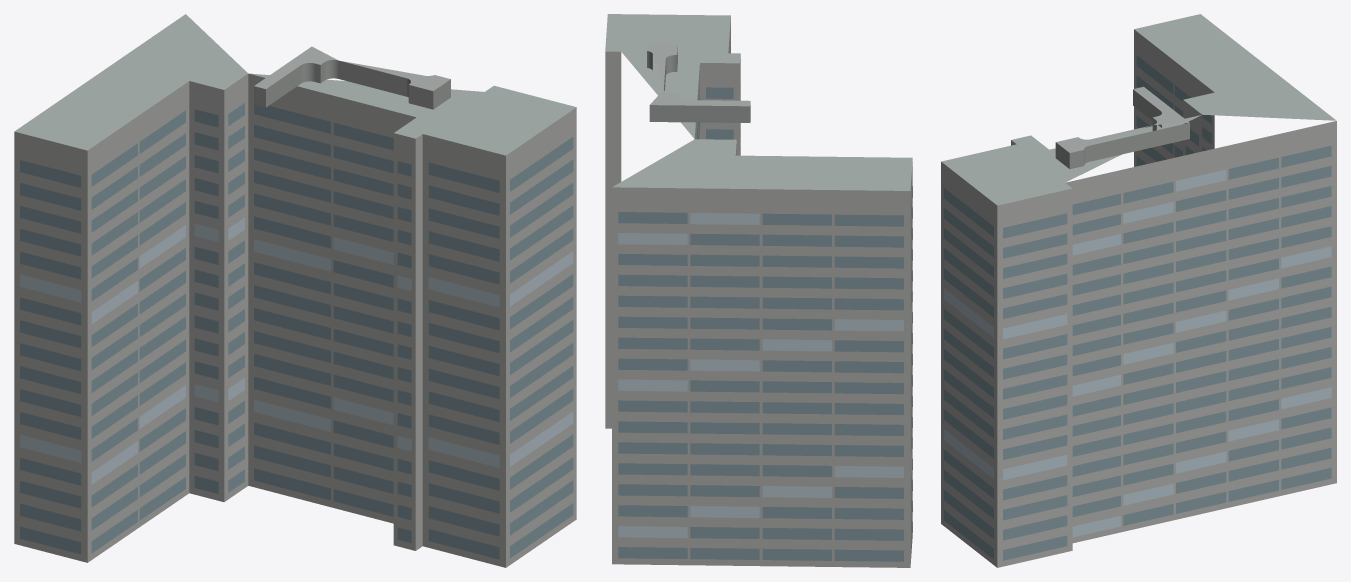
Rendered from fallback-onebailey-122.glb.
3 renders of one model, left to right at view 1: azimuth 30°, elevation 25°; view 2: azimuth 150°, elevation 25°; view 3: azimuth 270°, elevation 25°, orthographic. The views are drawn at different scales.
Visible parts, largest first — view 1: fallback-onebailey-122; view 2: fallback-onebailey-122; view 3: fallback-onebailey-122.
Part boxes in pixels (x1=…): fallback-onebailey-122: x1=14, y1=14, x2=576, y2=567; fallback-onebailey-122: x1=605, y1=14, x2=912, y2=567; fallback-onebailey-122: x1=941, y1=14, x2=1336, y2=567.
Bounding box in the file's own units: 60.78 × 56 × 53.07.
